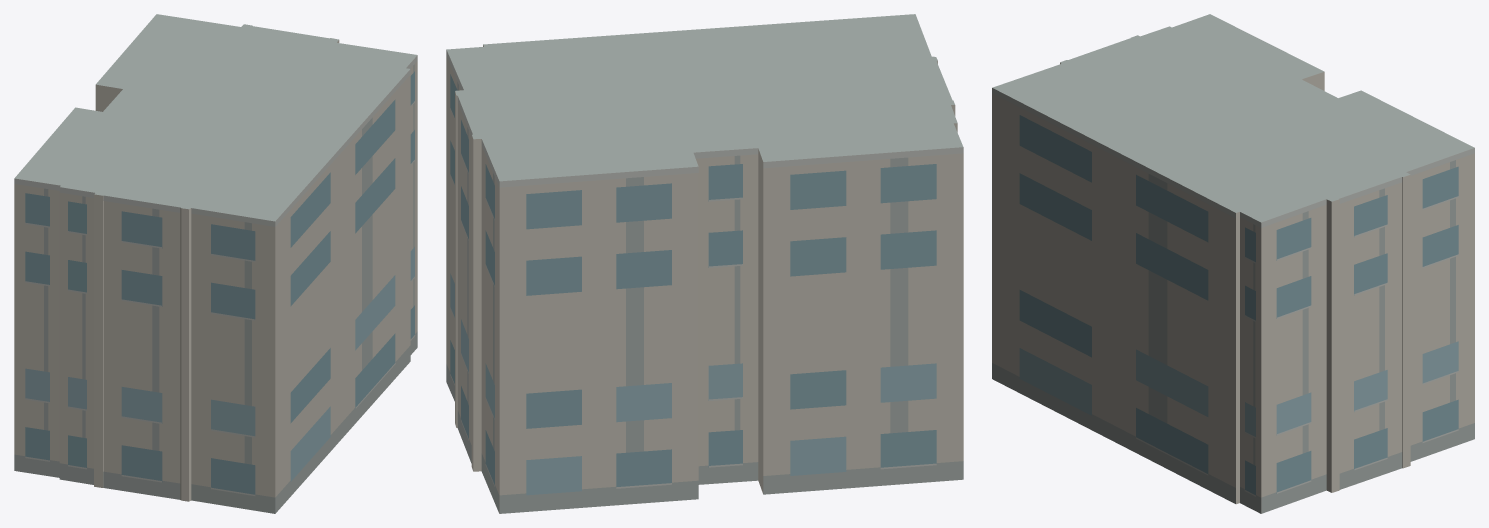
File: survey-upis-32835660.glb
3 views of the same model, side by side, from view 1: azimuth 30°, elevation 25°; view 2: azimuth 150°, elevation 25°; view 3: azimuth 270°, elevation 25° (orthographic). The views are drawn at different scales.
Visible parts, largest first — view 1: survey-upis-32835660.tmp; view 2: survey-upis-32835660.tmp; view 3: survey-upis-32835660.tmp.
Boxes of the visible parts, left/top/right/bottom form: survey-upis-32835660.tmp: left=14, top=14, right=417, bottom=513; survey-upis-32835660.tmp: left=446, top=14, right=963, bottom=513; survey-upis-32835660.tmp: left=992, top=14, right=1474, bottom=513.
Bounding box in the file's own units: 19.97 × 13 × 19.53.
